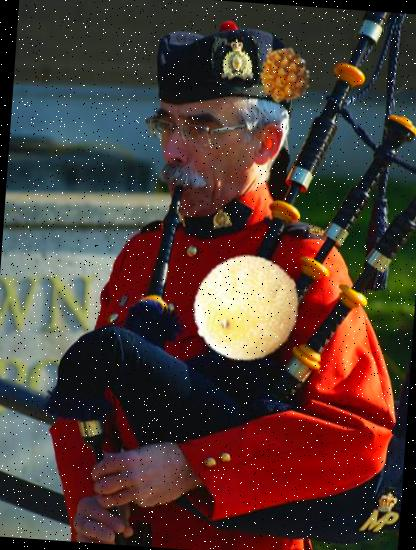Cantaloupe: (188, 250, 304, 366)
Pineapple: (254, 44, 315, 105)
